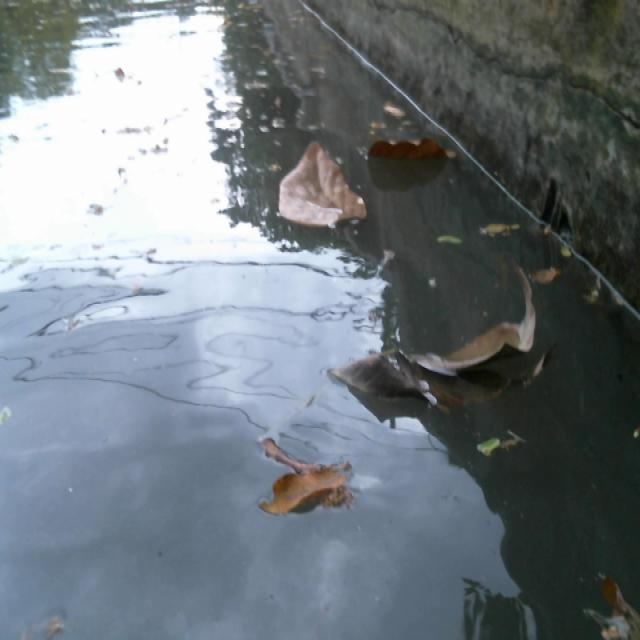Big-leaf: (322, 262, 546, 432), (255, 422, 367, 539), (275, 133, 372, 236), (372, 133, 462, 176)
Small-leaf: (587, 575, 640, 640), (481, 213, 535, 247), (578, 273, 616, 313), (370, 94, 412, 130), (418, 228, 468, 255), (534, 263, 572, 298), (559, 243, 584, 275), (473, 427, 500, 455)
